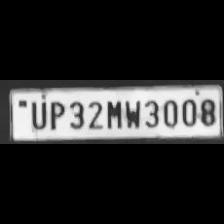0: (178, 96, 198, 127), (160, 96, 178, 127)
2: (85, 98, 103, 130)
3: (65, 98, 84, 130), (142, 96, 160, 128)
8: (197, 96, 217, 127)
M: (103, 96, 121, 130)
P: (46, 99, 66, 131)
U: (27, 98, 47, 130)
W: (122, 96, 142, 130)
